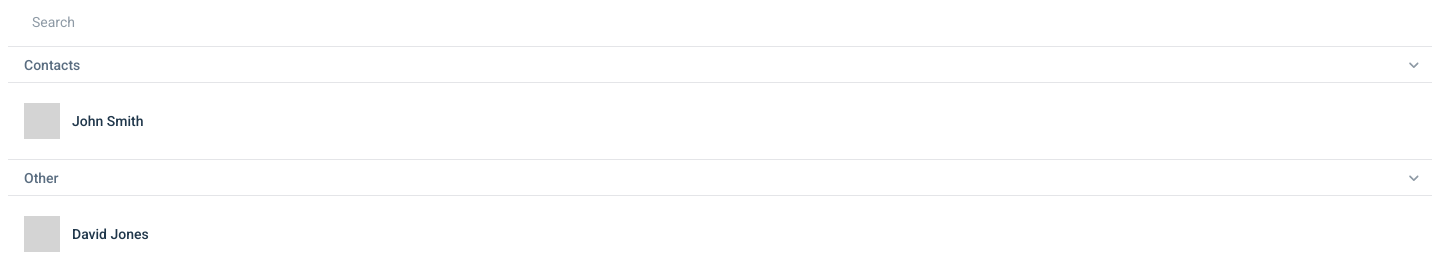
Test: Clicking section header hides contacts in section
The width and height of the screenshot is (1440, 269).
Expected: the text "John Smith" is shown, x1=72 y1=111 x2=144 y2=131
Expected: the text "David Jones" is shown, x1=72 y1=224 x2=149 y2=244
What coordinates should you click on to do the following:
click the button "Contacts"
I would click on:
 (52, 64)
Its box is x1=8 y1=46 x2=1432 y2=83.
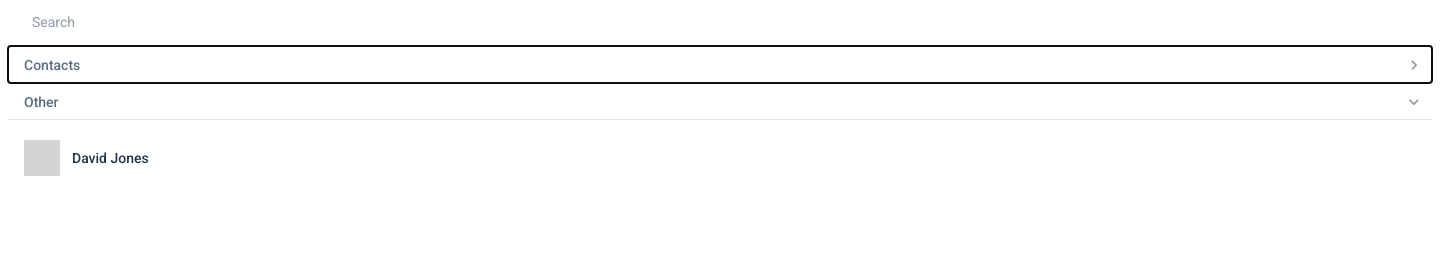
Expected: the text "David Jones" is shown, x1=72 y1=148 x2=149 y2=168
Result: the button "John Smith" is gone
